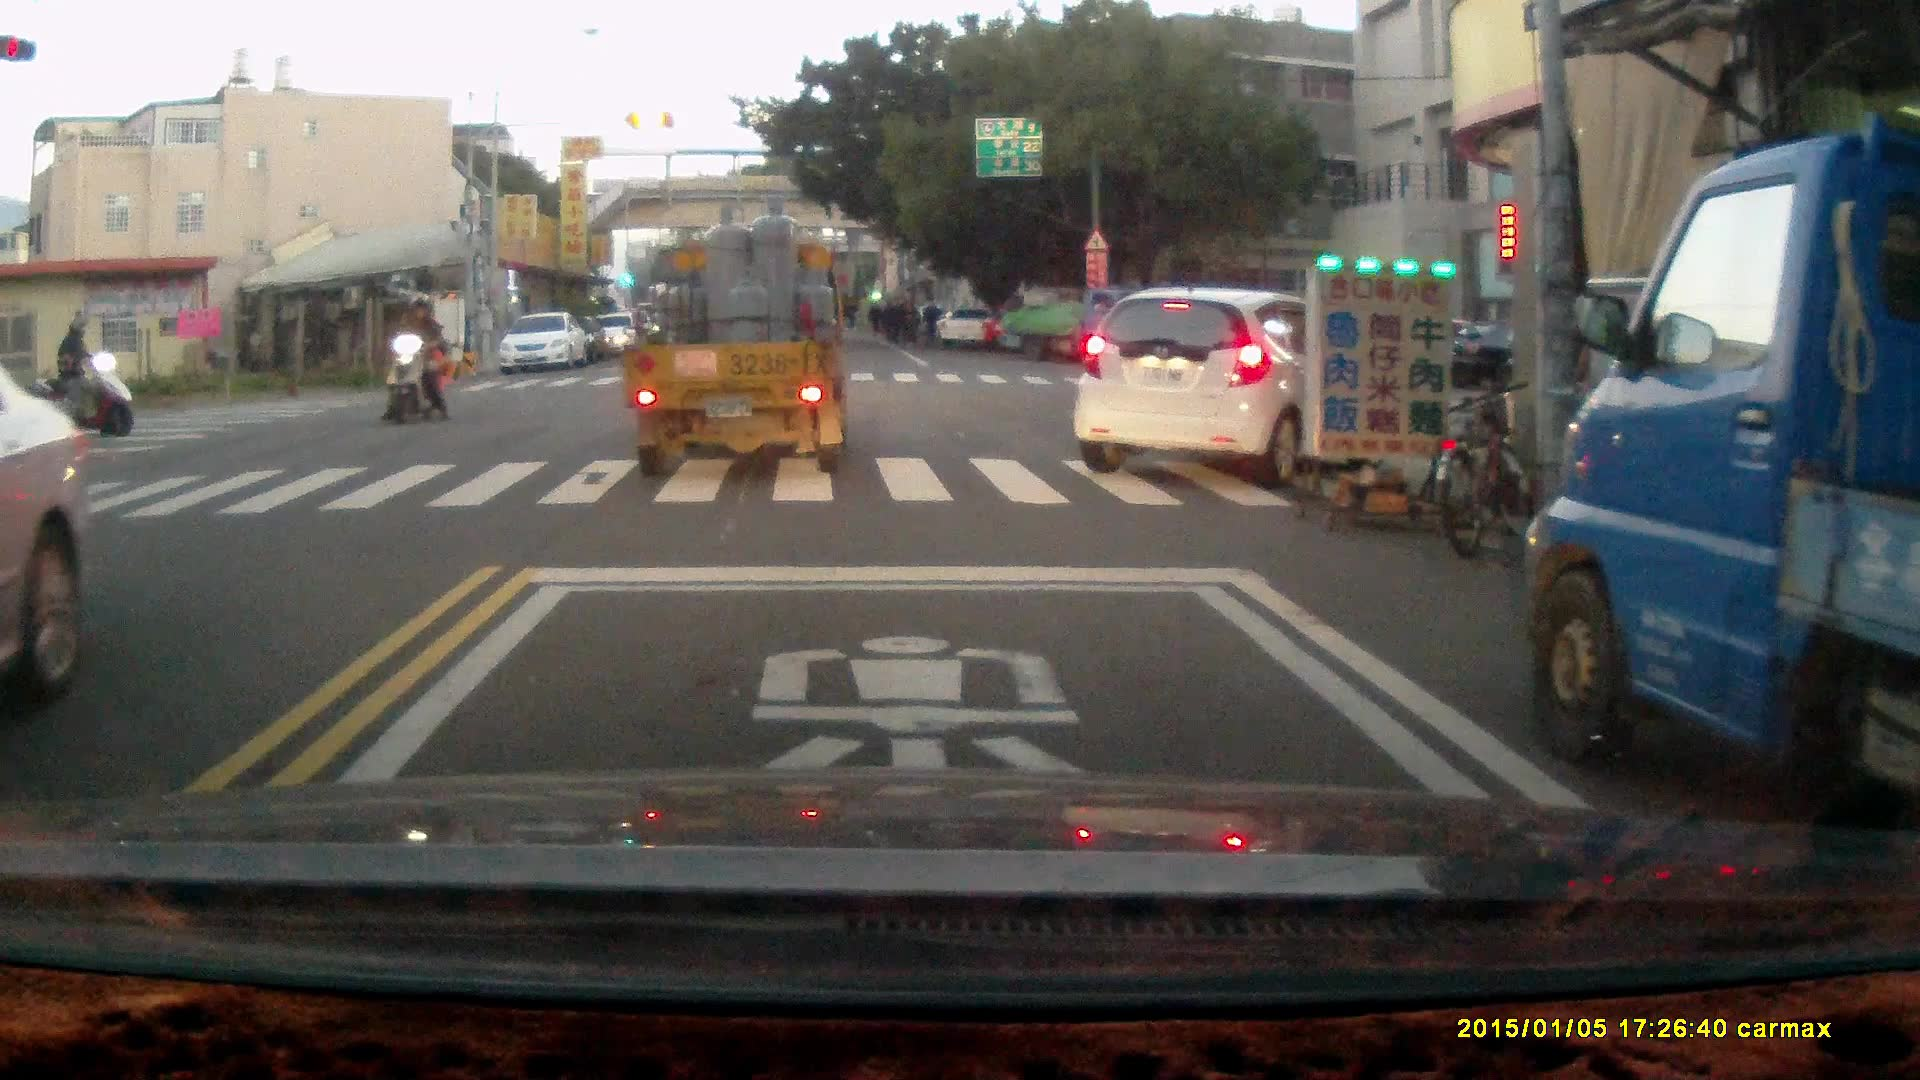rider: (35, 314, 132, 435), (382, 297, 449, 428)
vehicle: (1527, 132, 1920, 805), (621, 224, 851, 481), (1073, 289, 1362, 469), (1, 368, 98, 721), (1002, 284, 1170, 367), (503, 312, 588, 379)
